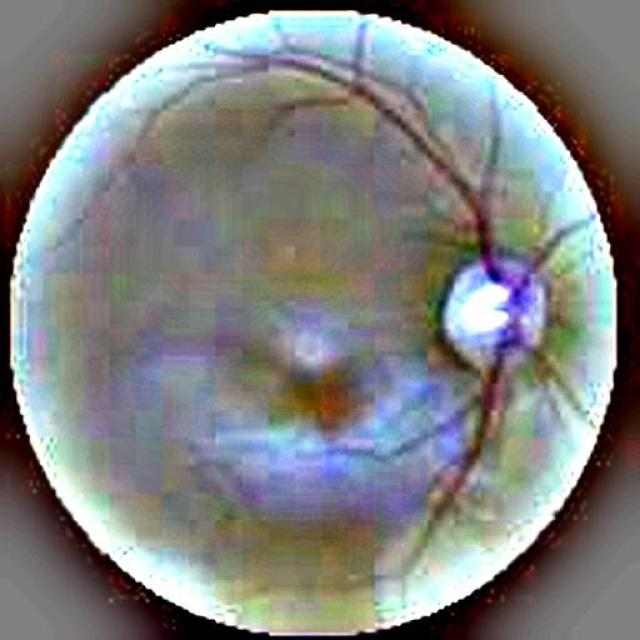Macula: (292, 369, 355, 431)
Nerves: (429, 156, 579, 530), (290, 60, 491, 254)
Optic Disk: (441, 254, 546, 370)
